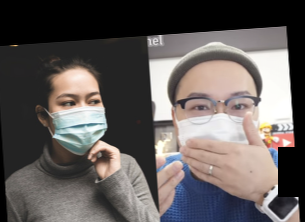with_mask: (175, 90, 261, 159), (49, 91, 107, 158)
